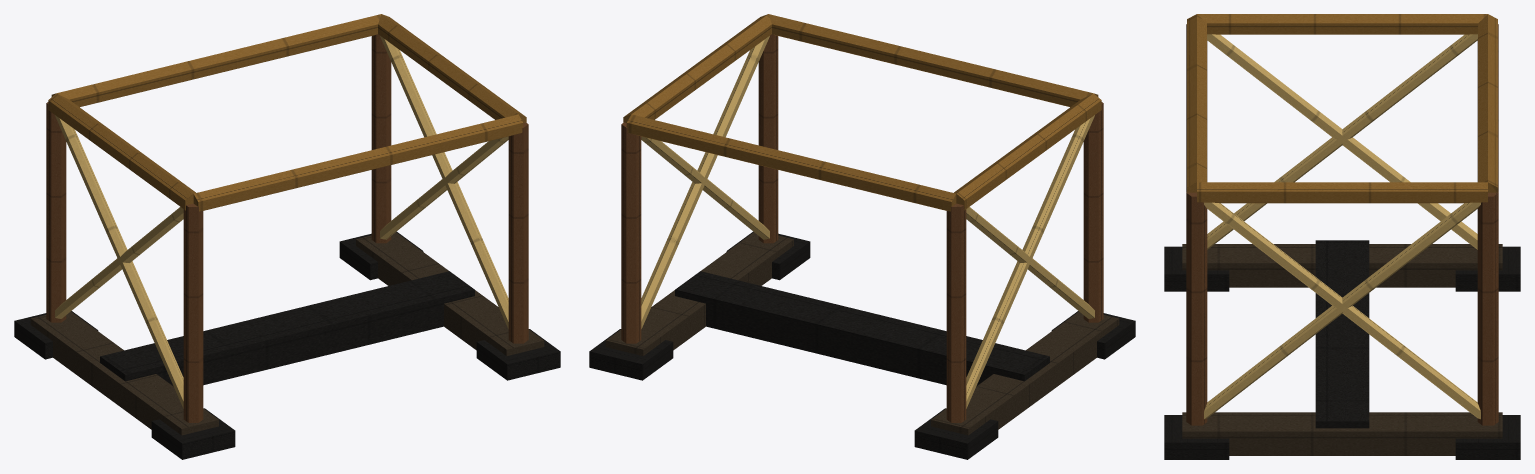
Rendered from ark-scaffold-stage-1.e9.glb.
3 renders of one model, left to right at view 1: azimuth 30°, elevation 25°; view 2: azimuth 150°, elevation 25°; view 3: azimuth 270°, elevation 25°, orthographic. The views are drawn at different scales.
Parts seen in each view (by area): view 1: ArkScaffoldStage1E9; view 2: ArkScaffoldStage1E9; view 3: ArkScaffoldStage1E9.
Boxes of the visible parts, x1,y1,x2,y2 form: ArkScaffoldStage1E9: (14,14,560,459); ArkScaffoldStage1E9: (589,14,1135,459); ArkScaffoldStage1E9: (1164,14,1520,459).
Size of the model in its own units: 2.42 by 1.52 by 1.86.
1 material, 1 textured.
